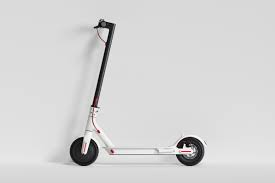kick_board: (70, 20, 204, 165)
kick_body: (111, 147, 174, 154)
kick_handler: (95, 18, 116, 31)
kick_neck: (82, 32, 113, 129)
kick_wheel: (69, 136, 98, 166), (176, 136, 205, 166)
